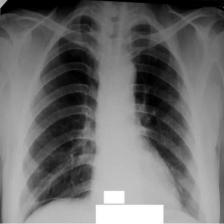tuberculosis: (14, 10, 211, 223)
